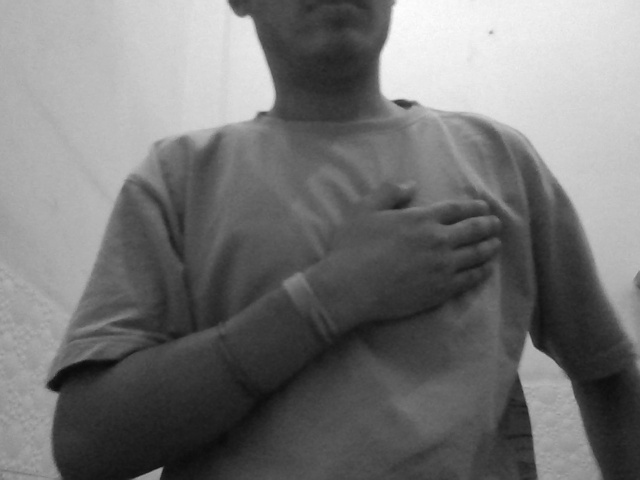Sorry: (297, 166, 516, 366)
